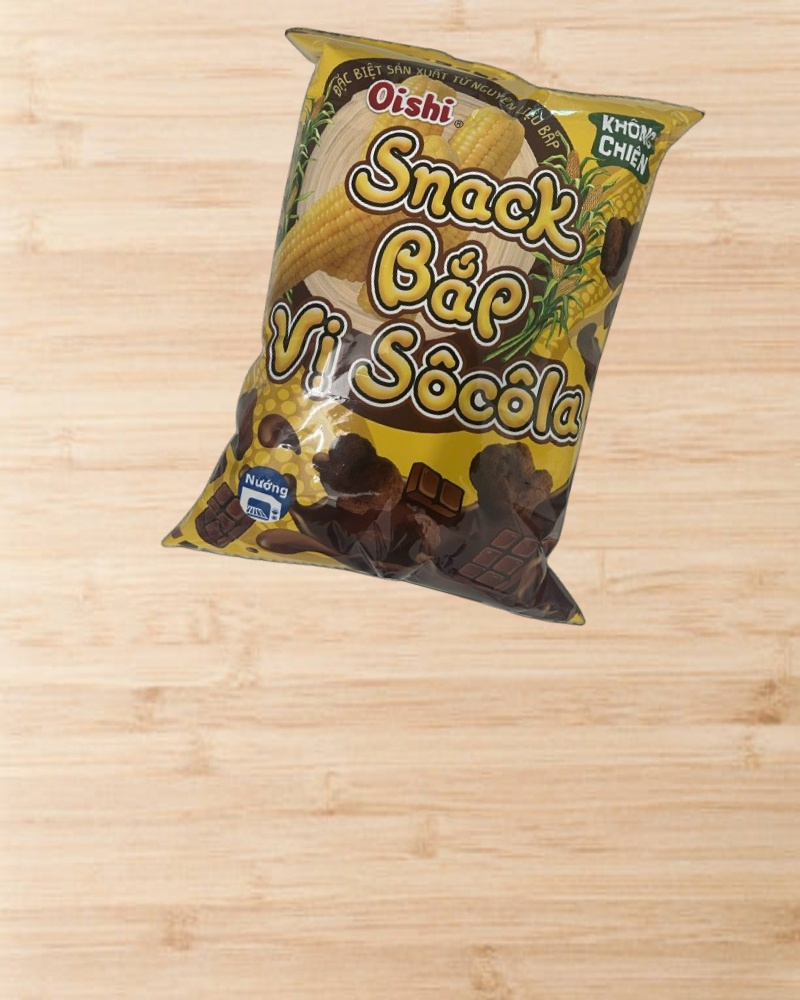Snack socola: (154, 6, 720, 646)
